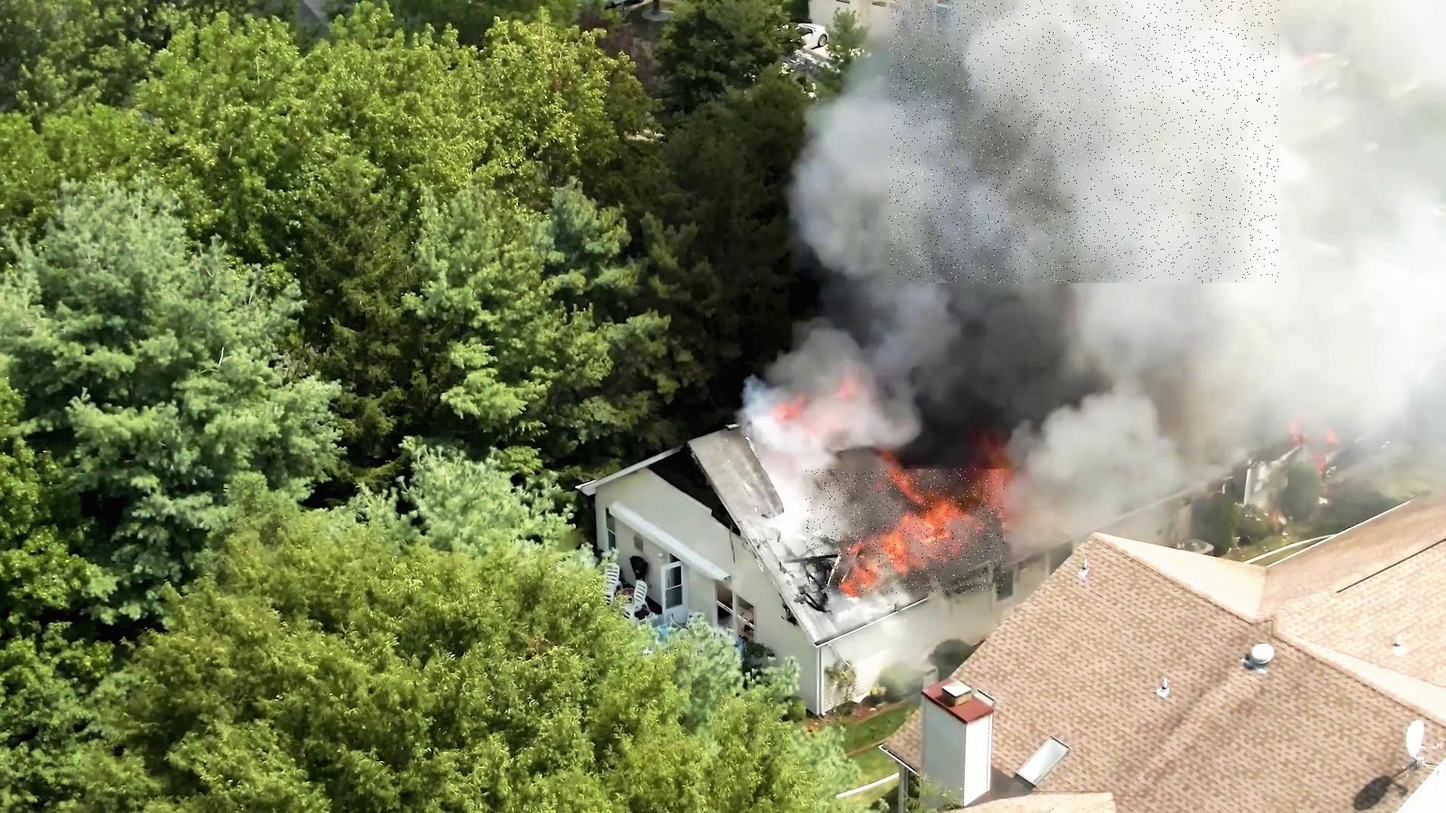fire: (806, 469, 1006, 593)
smoke: (889, 0, 1279, 283)
